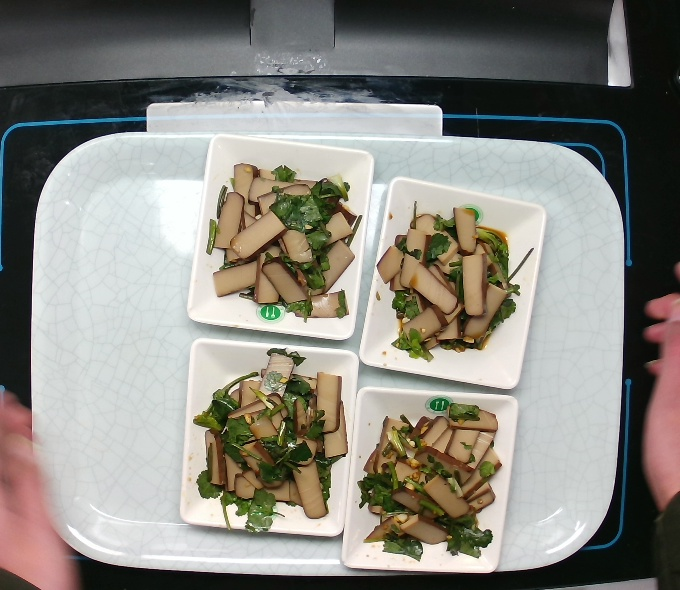wcq-JiDanGan: (201, 349, 351, 525), (208, 155, 359, 324), (363, 397, 508, 564), (375, 204, 532, 357)
